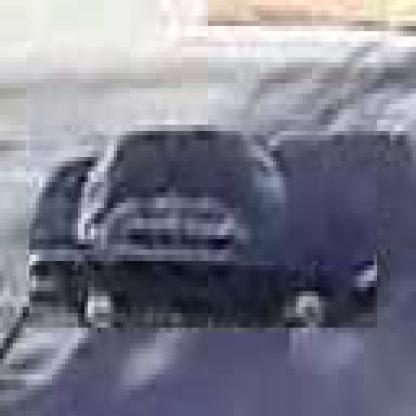car: (27, 121, 378, 334)
